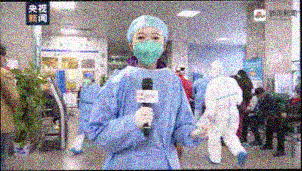with_mask: (130, 29, 165, 65), (1, 54, 9, 68), (290, 90, 300, 99), (83, 76, 92, 85), (255, 93, 264, 102)
